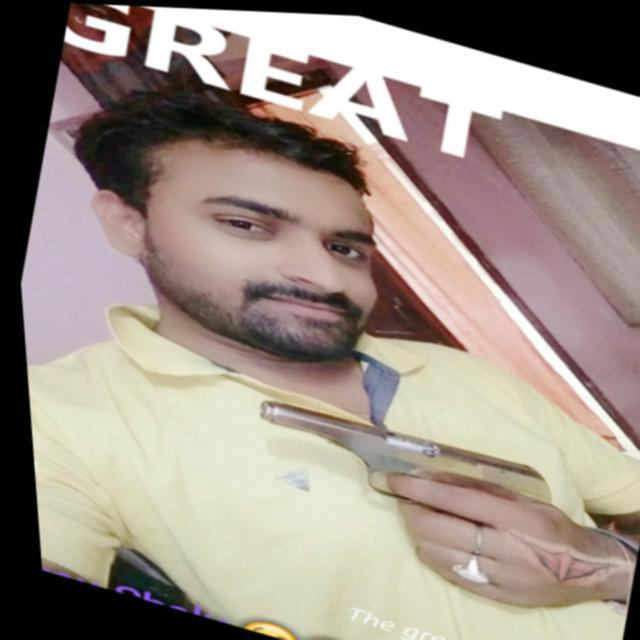weapon: (222, 383, 582, 599)
